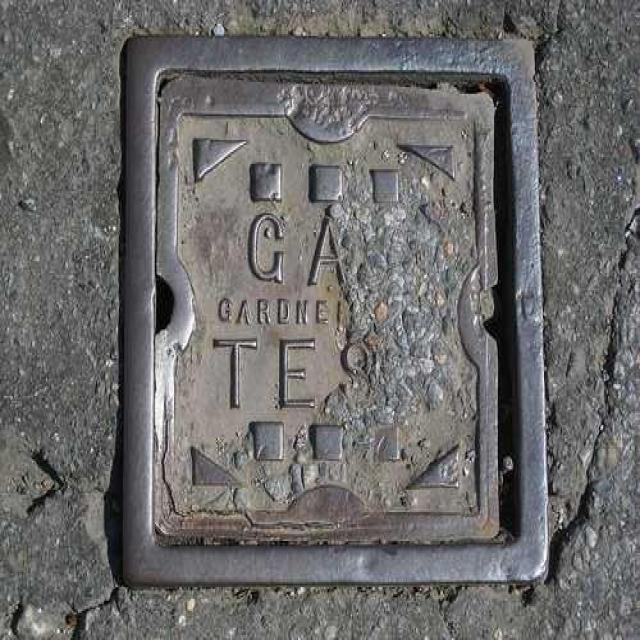manhole: (122, 37, 547, 586)
